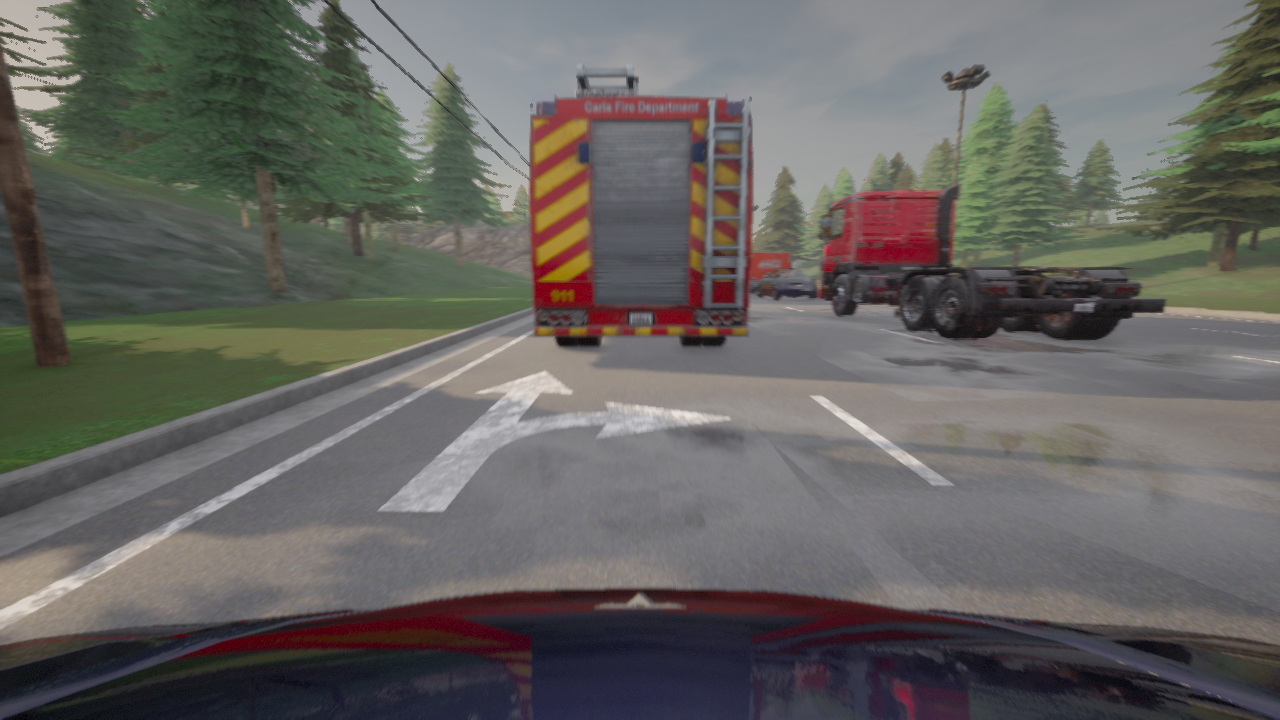cyclist: (0, 588, 1279, 719), (529, 64, 752, 347), (818, 185, 1164, 339), (756, 270, 817, 299), (749, 252, 792, 293)
